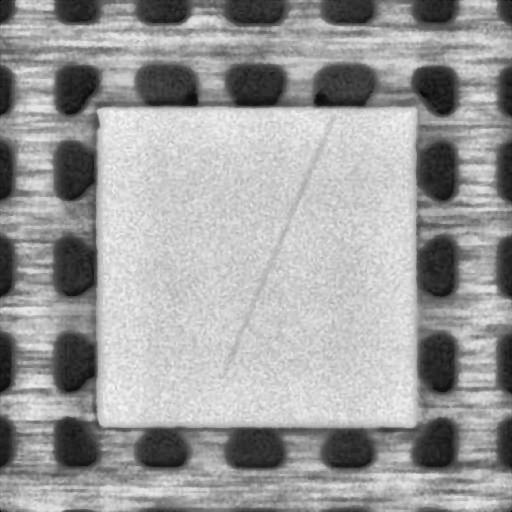DIE_CRACK: (221, 115, 333, 375)
